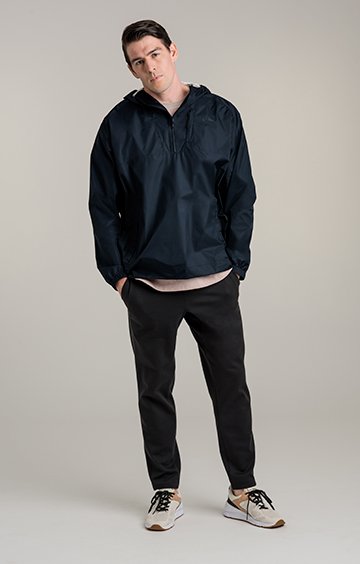NOTSAFE: (108, 18, 228, 295)
